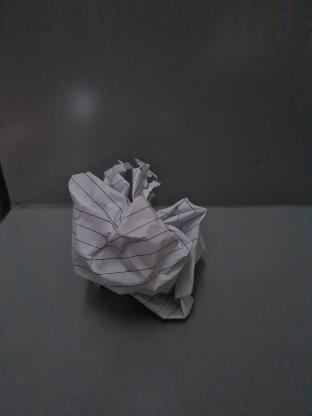Paper: (62, 160, 221, 324)
